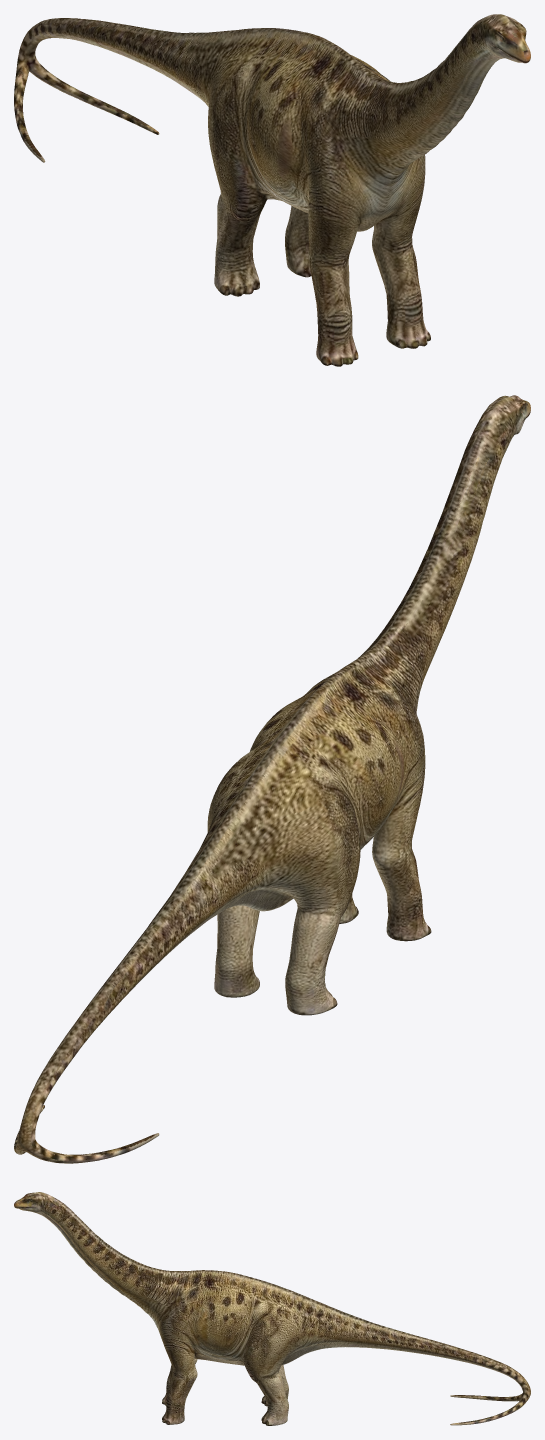
Rendered from raptor.glb.
The picture shows the model from 3 angles, top to bottom: view 1: azimuth 30°, elevation 25°; view 2: azimuth 150°, elevation 25°; view 3: azimuth 270°, elevation 25°; orthographic projection. The views are drawn at different scales.
Visible parts, largest first — view 1: world; view 2: world; view 3: world.
Part boxes in pixels (left/top/right/bottom): world: left=14, top=14, right=530, bottom=366; world: left=14, top=395, right=530, bottom=1163; world: left=14, top=1192, right=530, bottom=1425.
Bounding box in the file's own units: 0.3047 × 0.9378 × 2.
Materials: 1 (1 with a texture image).
